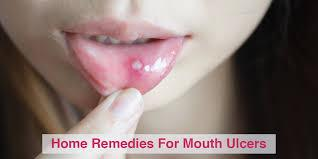Ulcer: (128, 57, 153, 75)
